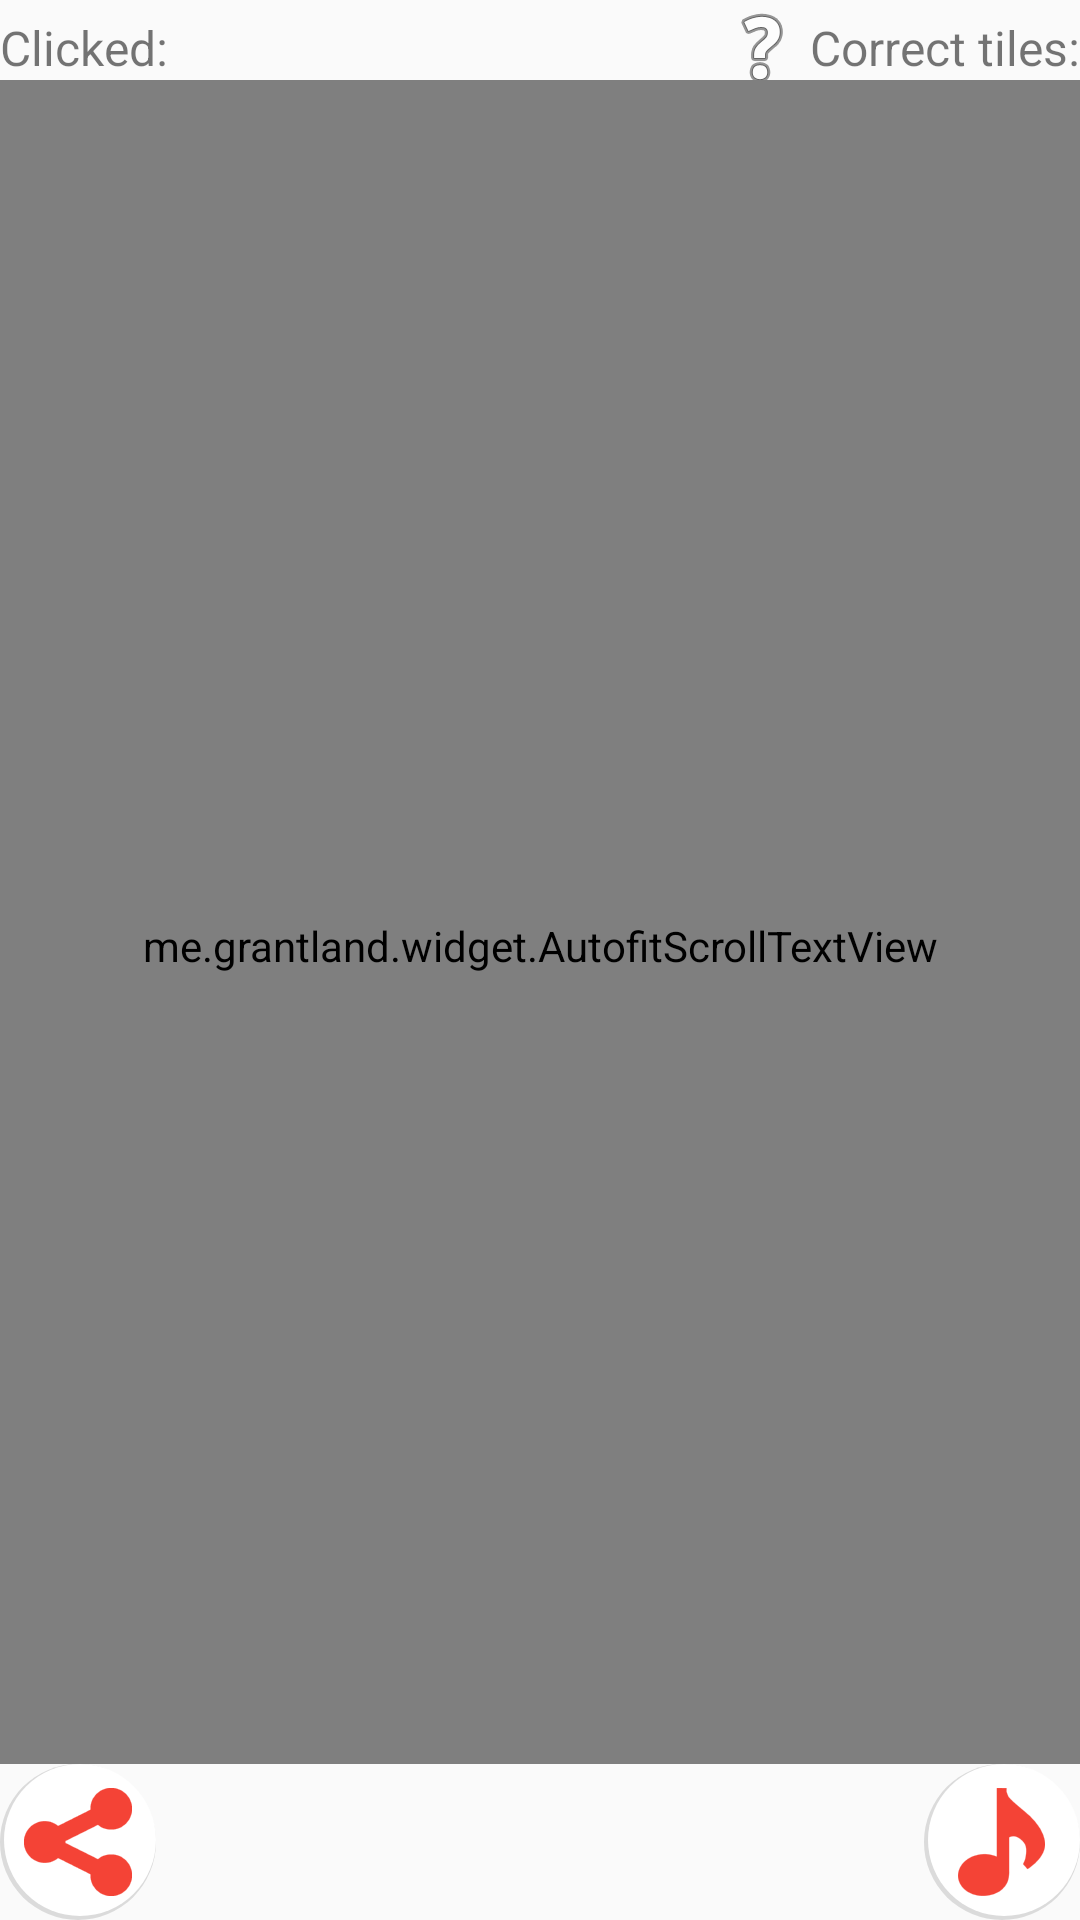

Icons on this 1080*1920 Android screen, each with its box as (x1, y1, x2, y2):
music: (924, 1768, 1077, 1920)
share: (0, 1768, 153, 1920)
